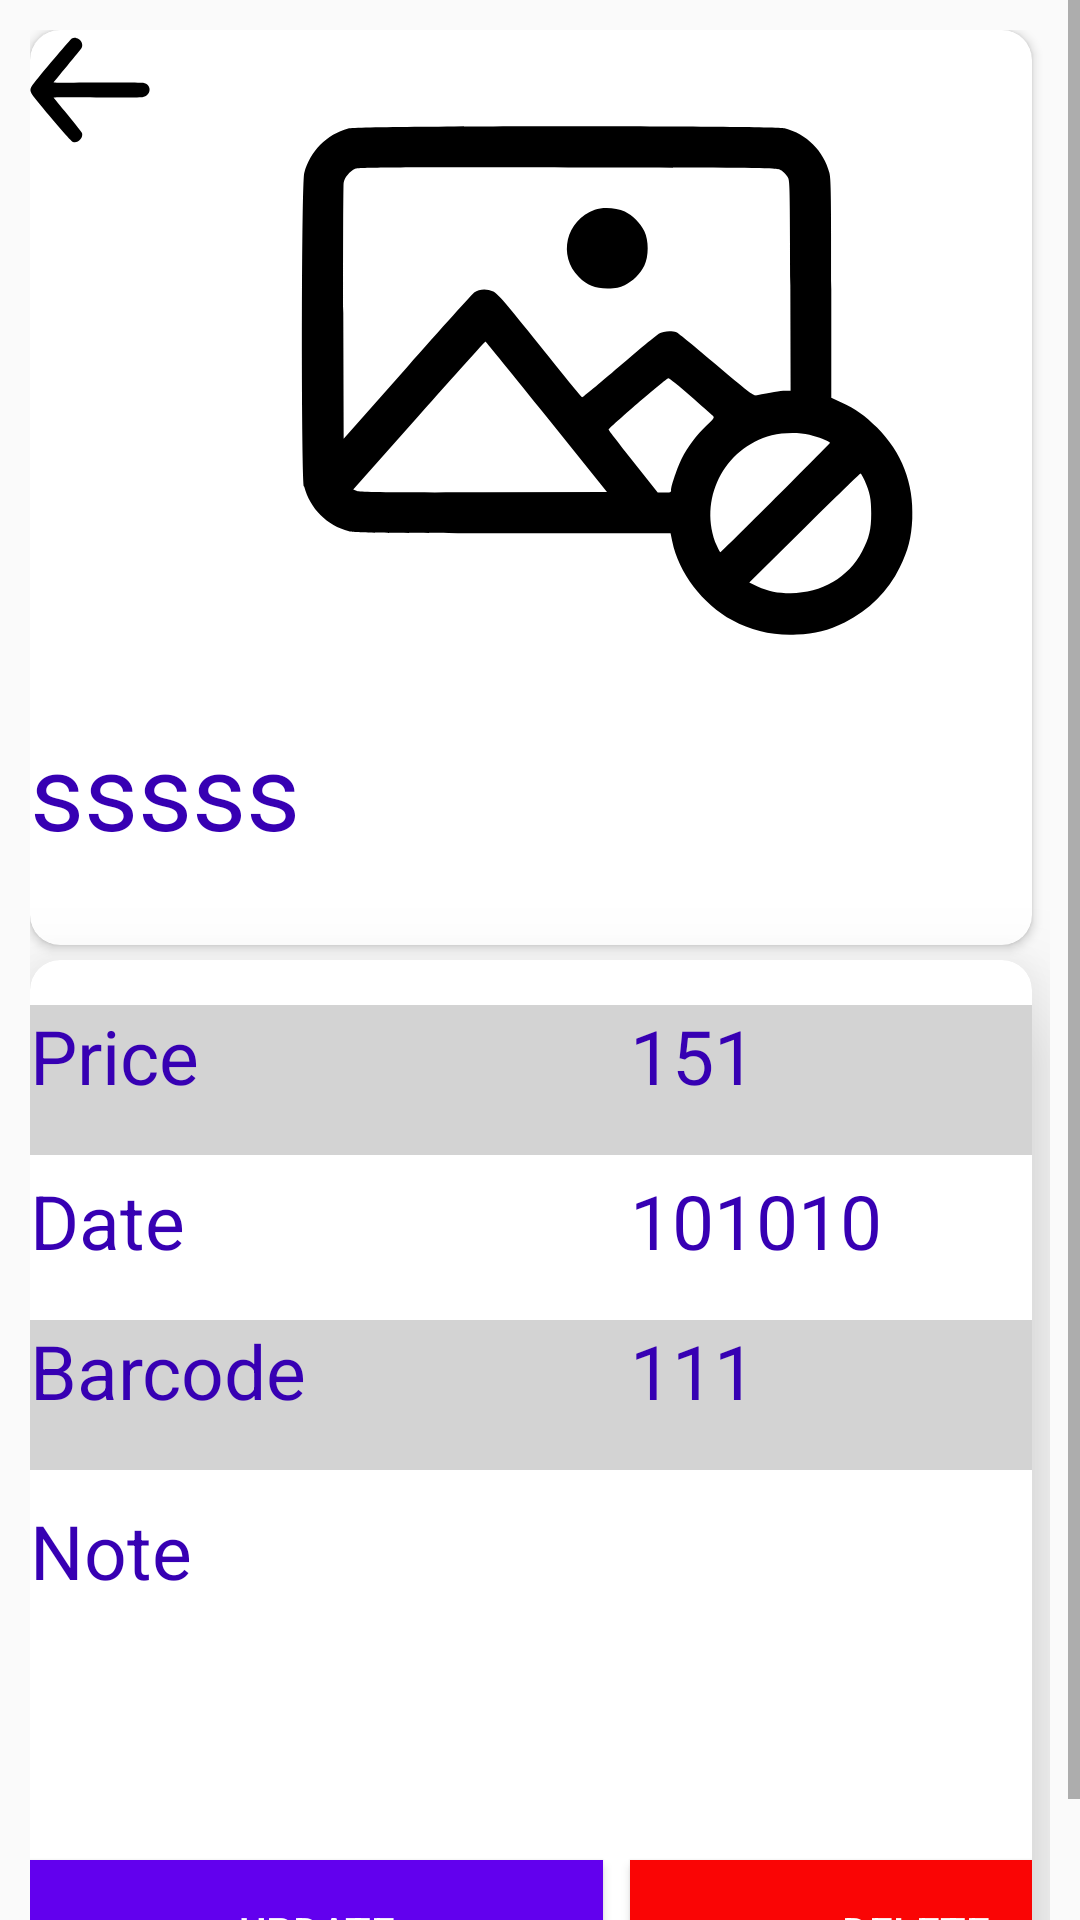

Locate icon controls on the screen. Image size 1080px×1920px, boxes as (x1, y1, x2, y2).
back: (30, 30, 150, 143)
